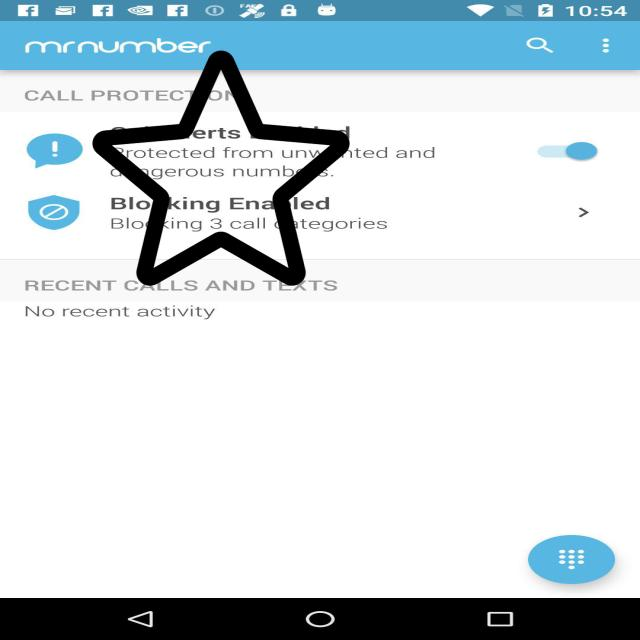forced continuity: (93, 45, 350, 291)
